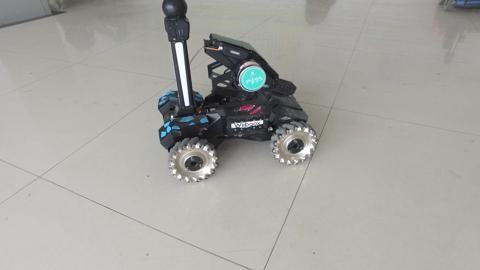chariot: (155, 1, 321, 185)
